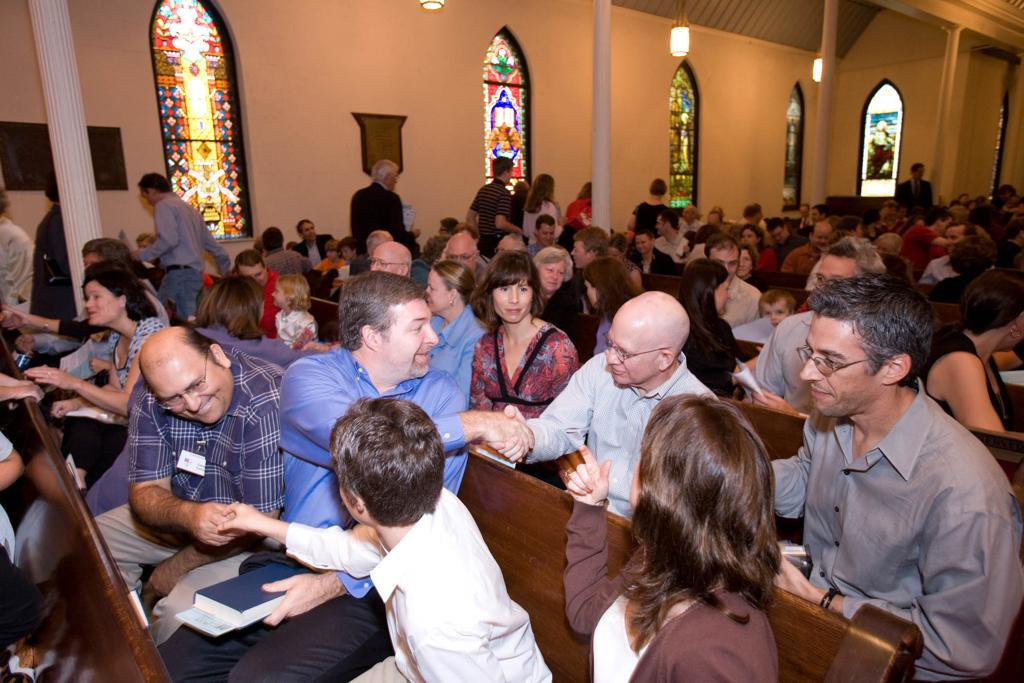face: (801, 321, 875, 416), (159, 365, 233, 422), (377, 309, 436, 375), (608, 331, 661, 383), (815, 265, 857, 319), (492, 271, 533, 321), (84, 285, 121, 325), (424, 274, 455, 309), (370, 255, 400, 288), (711, 251, 737, 288), (448, 246, 475, 279), (538, 259, 565, 290), (762, 302, 788, 333), (83, 256, 106, 289), (709, 280, 729, 314), (240, 267, 266, 288), (497, 243, 518, 269), (571, 243, 593, 267), (946, 228, 965, 255), (734, 251, 751, 276), (139, 187, 160, 206), (811, 230, 829, 248), (272, 286, 287, 306), (539, 225, 554, 245), (606, 247, 621, 267), (851, 223, 864, 245), (875, 244, 889, 264), (635, 236, 650, 253), (741, 229, 755, 247), (939, 214, 951, 234), (881, 207, 894, 225), (302, 222, 314, 241), (138, 241, 150, 259), (656, 216, 668, 234), (771, 228, 785, 243), (386, 171, 397, 189), (751, 210, 763, 225), (341, 244, 353, 258), (811, 210, 822, 225), (709, 213, 720, 227), (439, 225, 448, 240), (326, 245, 336, 258), (683, 207, 692, 221), (914, 167, 924, 178), (800, 206, 807, 216), (898, 208, 904, 217)
